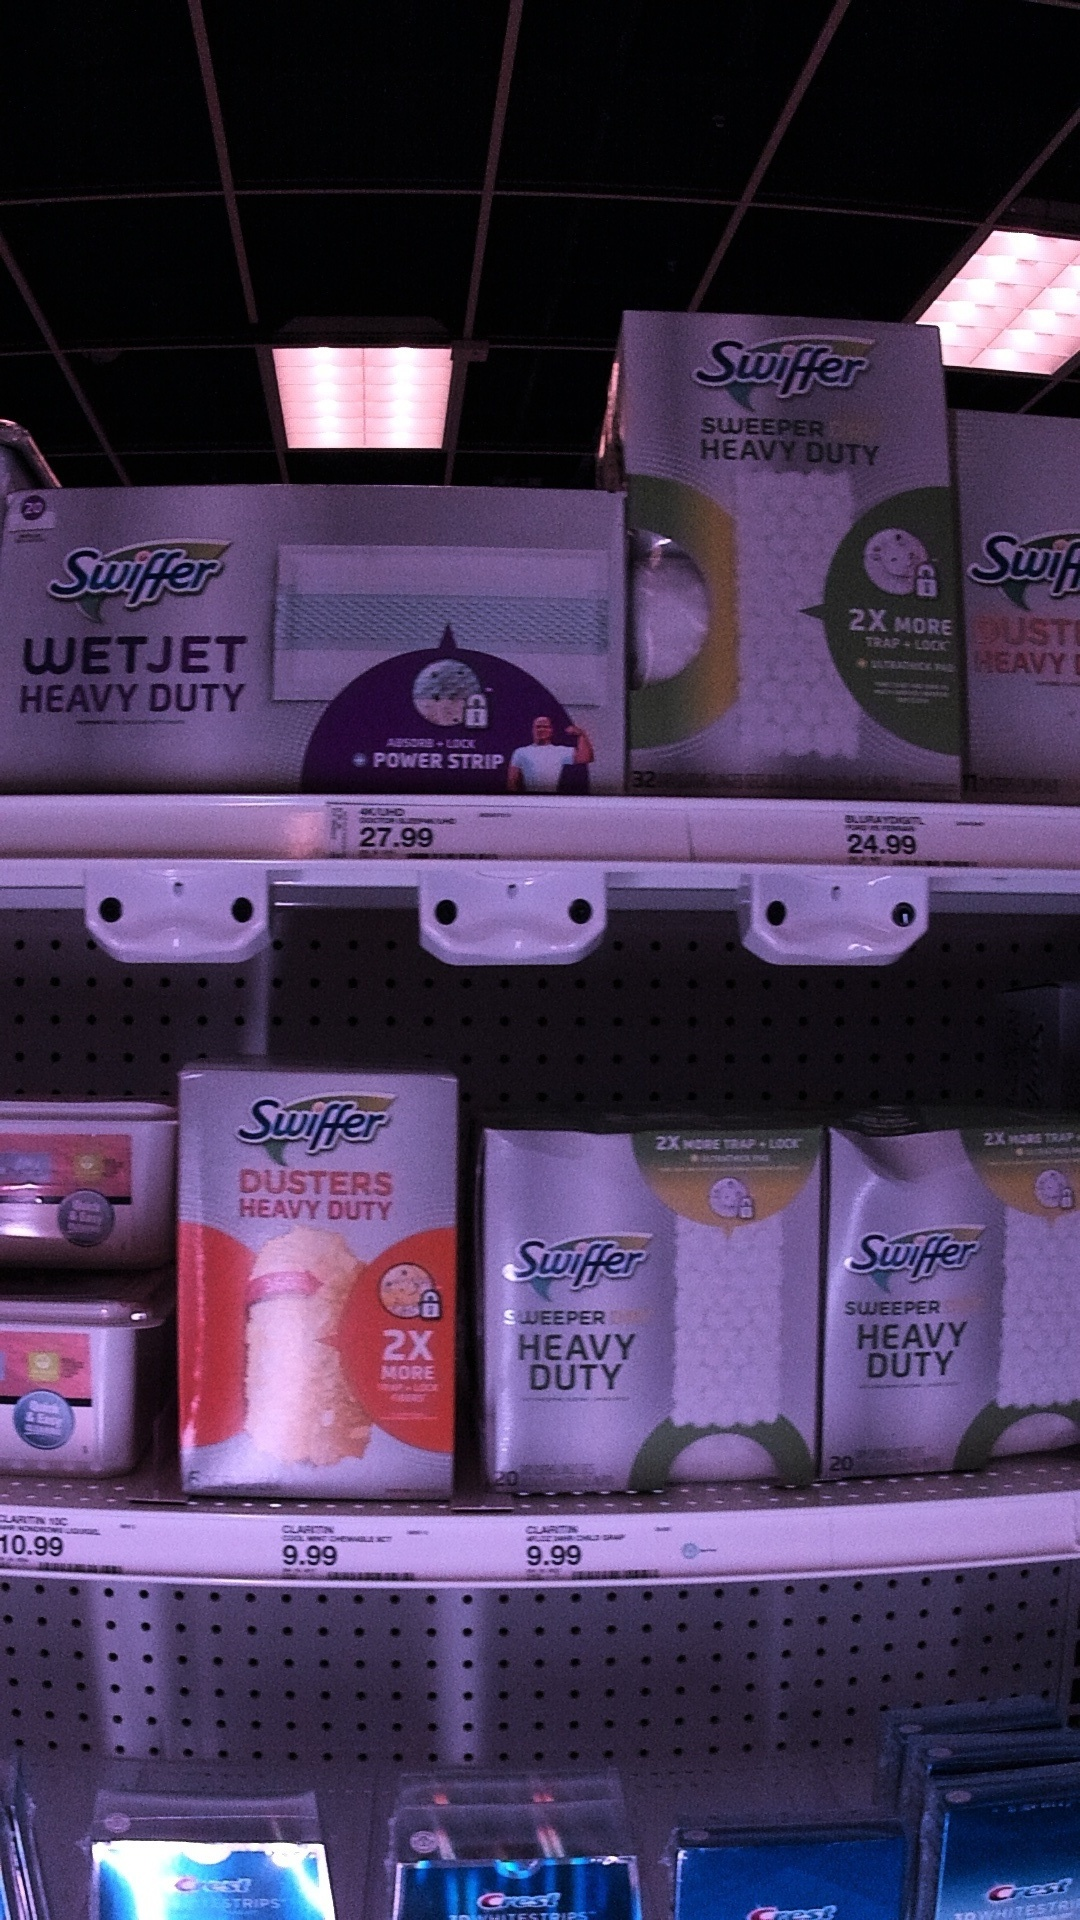ptag: (313, 793, 520, 869), (513, 1522, 711, 1592), (824, 804, 1009, 877), (269, 1515, 426, 1592), (1, 1515, 144, 1582)
